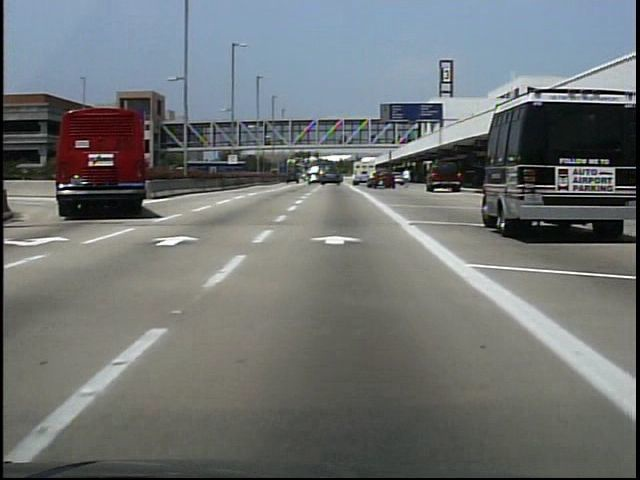person: (398, 169, 412, 191)
